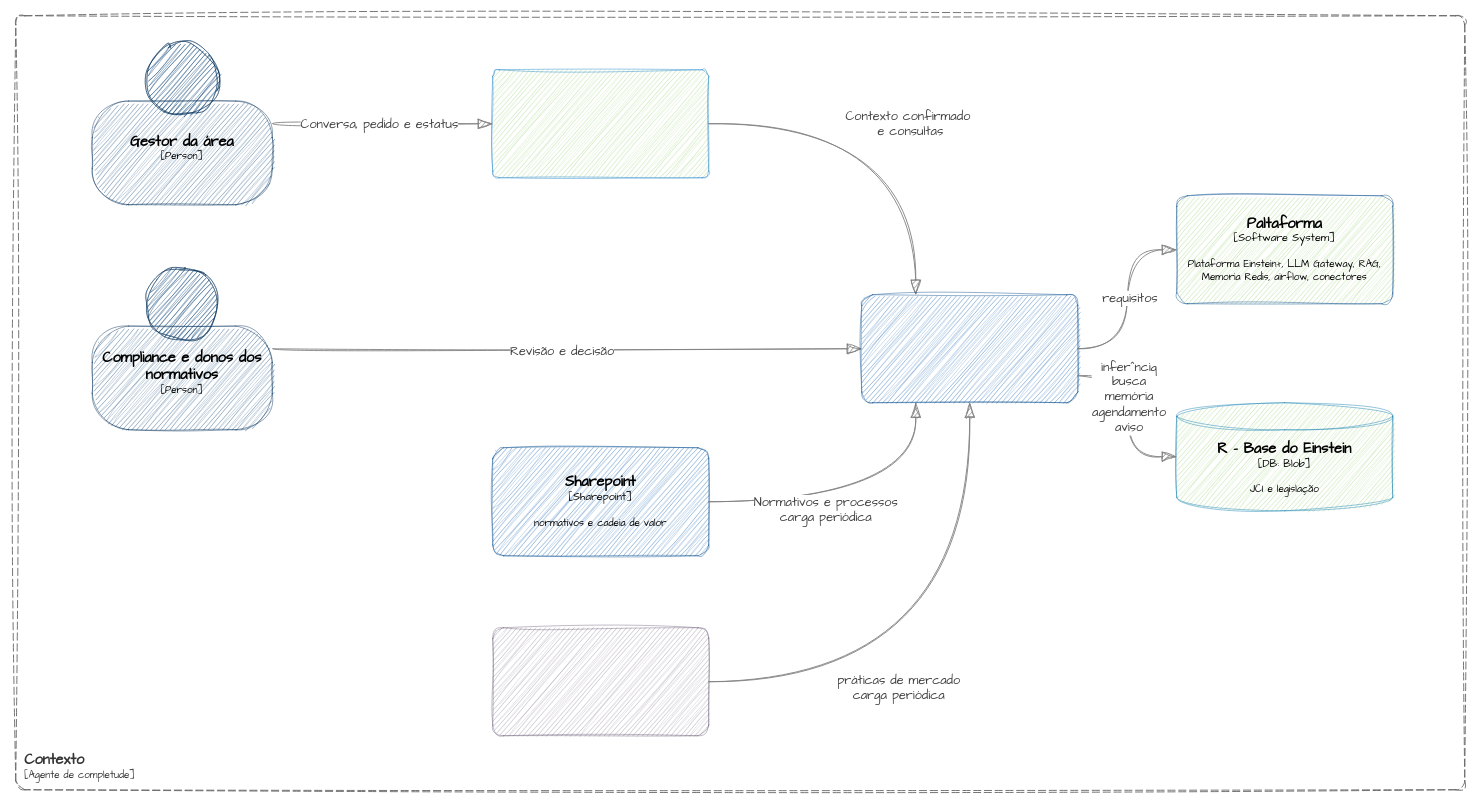
Some shapes in this 1481 by 806 pixel diagram are drawn without their labels. The shapes that lost their labels are listed below. From the top down, each one's centre as x and y in pixels, then its label:
At (x=600, y=123): "Teams [Component: Copilot Studio] Homologação 12/2026".
At (x=969, y=348): "Agente de completude [Software System] Sistema alvo".
At (x=600, y=681): "Fontes externas [Sistemas externos] Allowlist".
